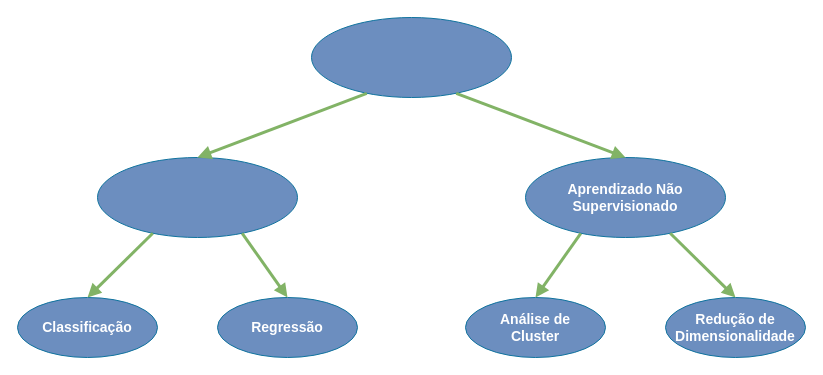
Image size: 823x375. Some labels were removed from this diagram. The shapes that lost their labels are listed below. From the top down, each one's centre as x and y in pixels, then its label:
At pixel 411 57: "Aprendizado de Máquina".
At pixel 197 197: "Aprendizado Supervisionado".
